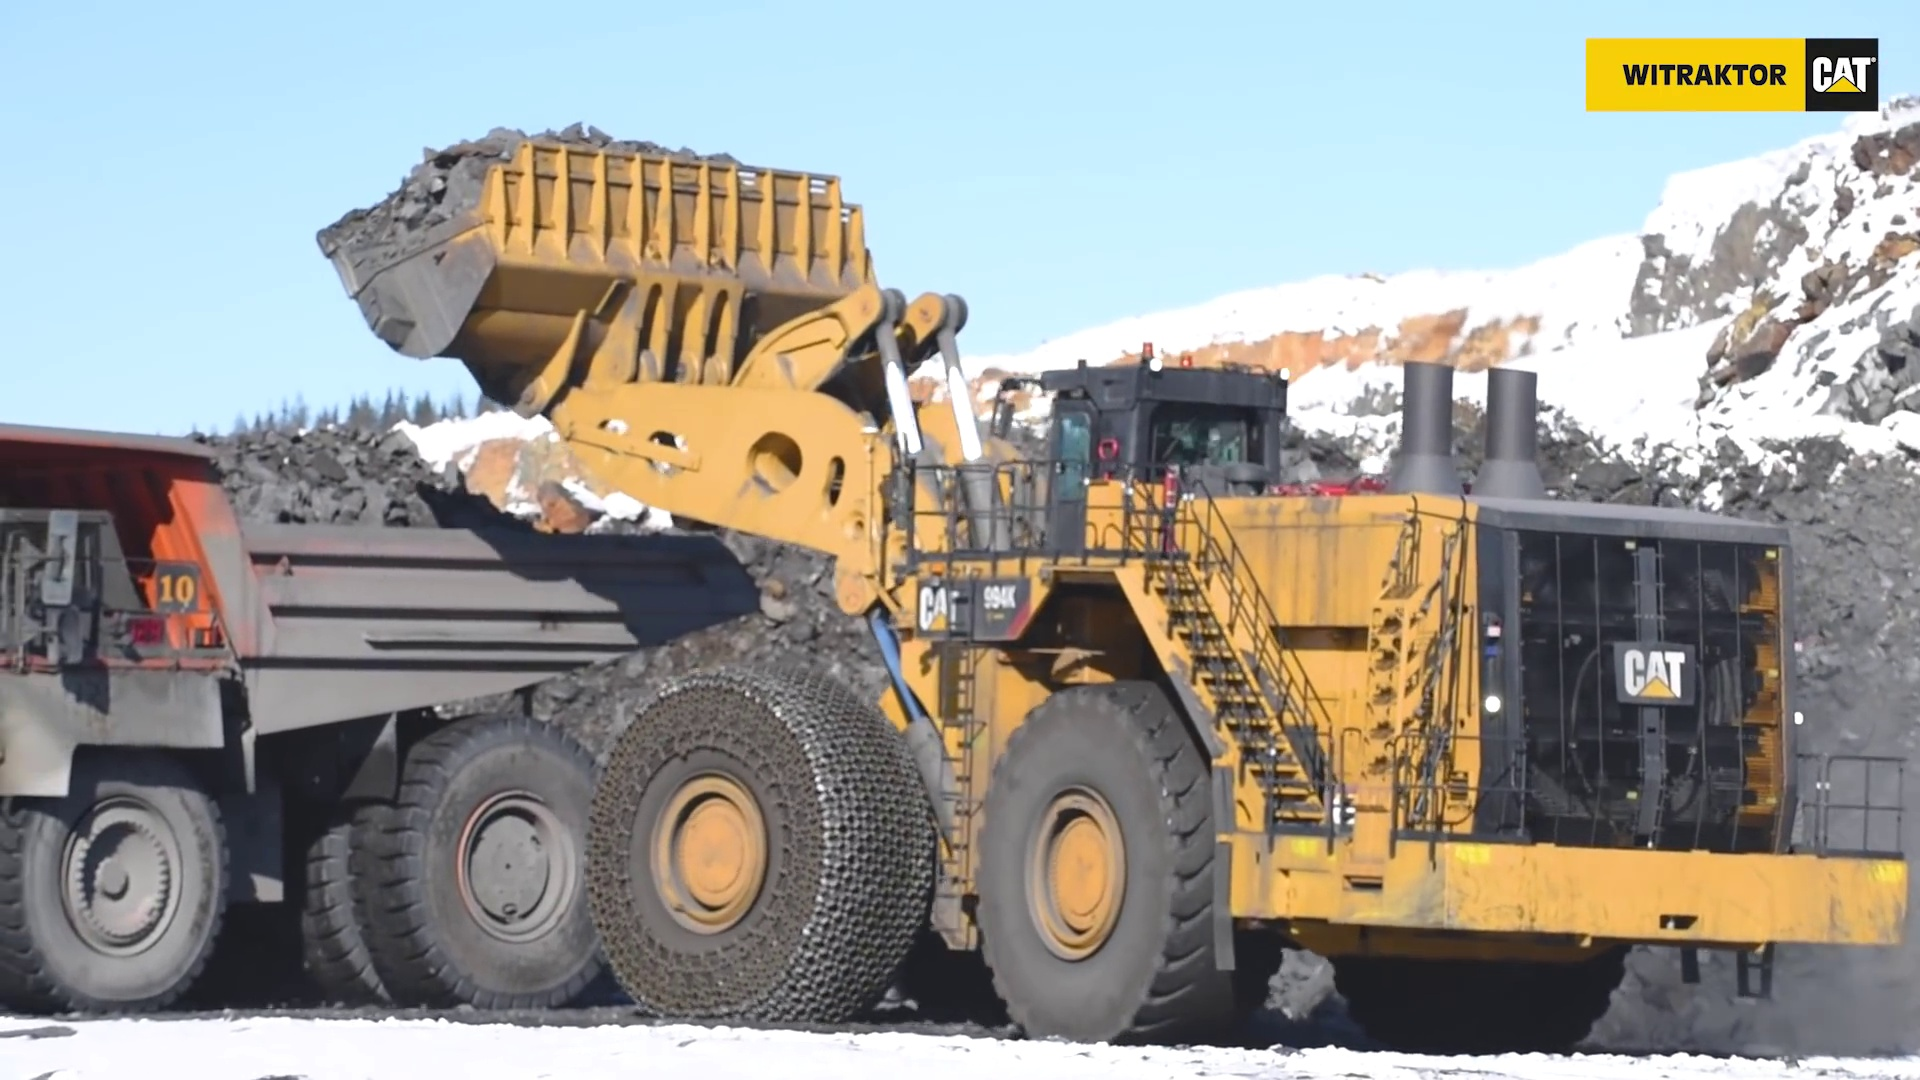dumper: (3, 414, 767, 1007)
wheel loader: (318, 127, 1920, 1048)
